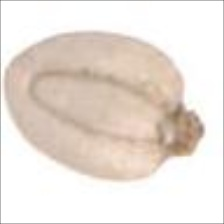L5: (24, 64, 170, 145), (155, 98, 207, 163), (3, 47, 28, 110)
L6: (2, 28, 208, 185)
